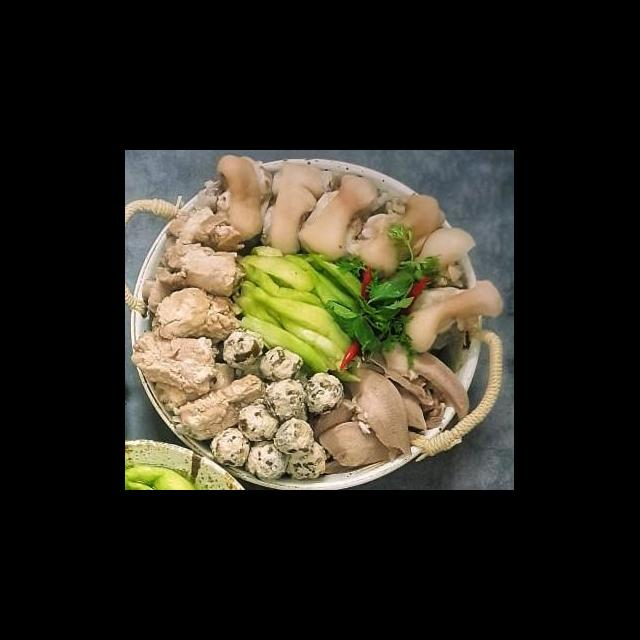thit heo: (168, 370, 272, 444), (140, 278, 246, 344), (152, 236, 250, 301), (130, 329, 223, 397), (150, 359, 240, 414), (165, 206, 248, 254)
vien moc: (258, 374, 310, 424), (304, 366, 348, 417), (236, 398, 284, 444), (206, 422, 253, 468), (284, 438, 334, 481), (242, 434, 288, 480), (220, 329, 266, 372), (272, 416, 318, 458), (258, 344, 304, 383)
